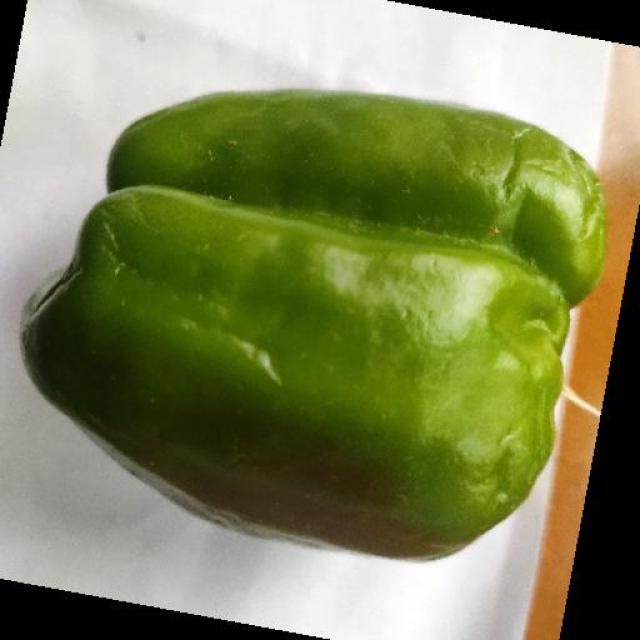Stale_Capsicum: (87, 122, 604, 527)
